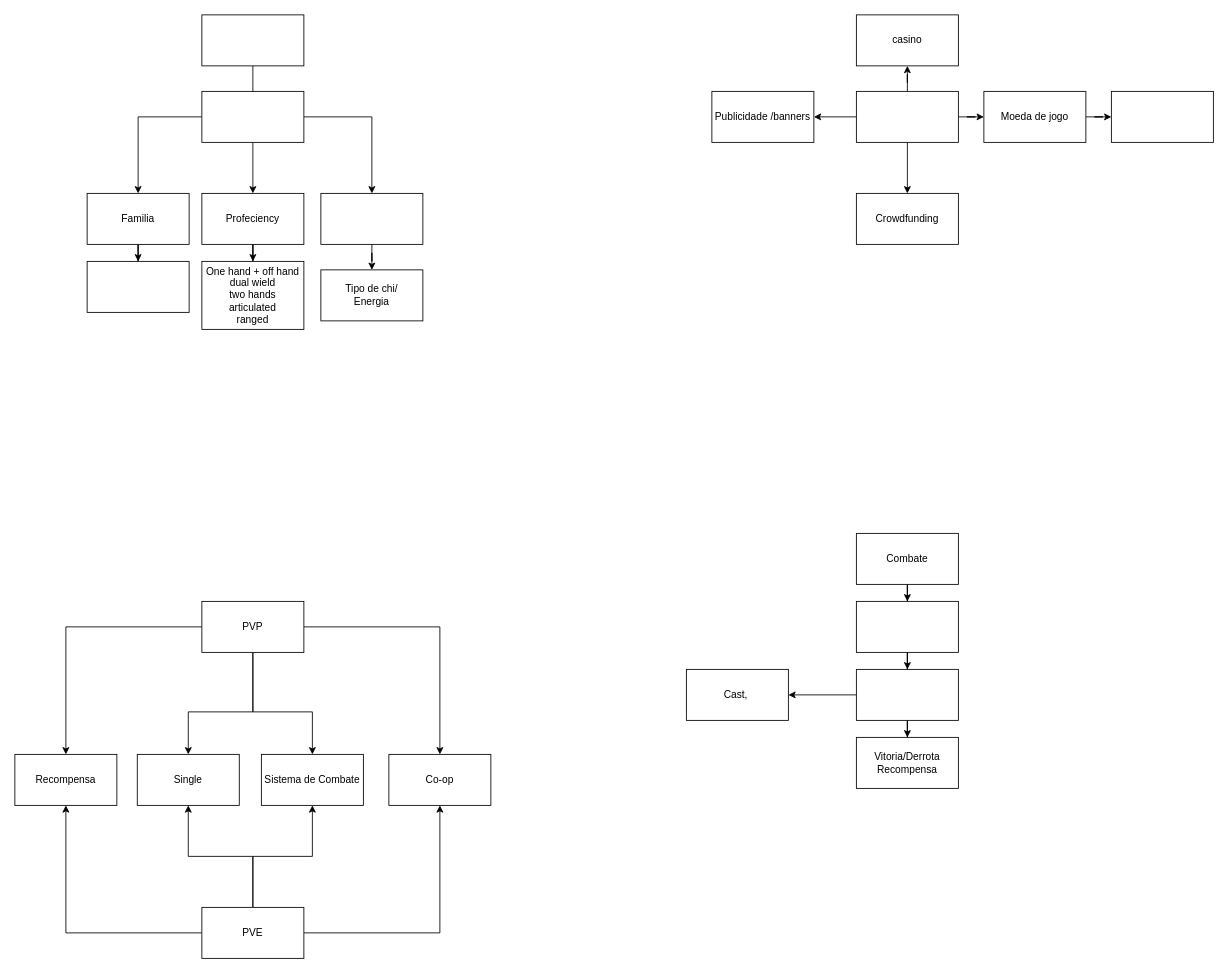
The diagram is 1228 pixels wide and 973 high, and some of its shapes have lost their labels. The shapes that lost their labels are listed below. From the top down, each one's centre as x and y in pixels, then its label:
At (252,40): "Dojo Village".
At (252,116): "Registo".
At (907,116): "Rentabilidade".
At (1162,116): "Skins/visuals".
At (371,218): "Elemento".
At (137,286): "Arte marcial".
At (907,626): "Cumprimento".
At (907,694): "Ataques/Defesa/Contra-ataques (habilidades)".
